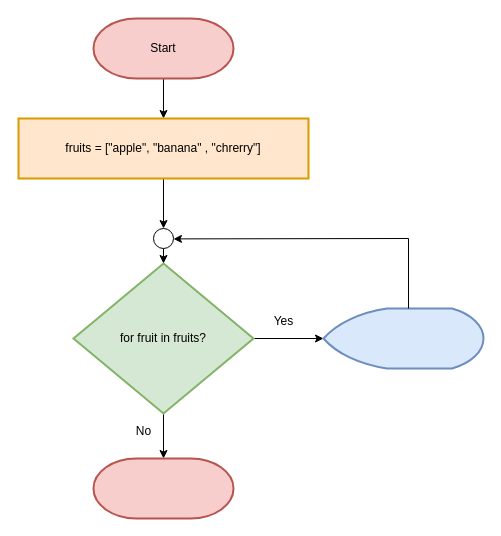
Image size: 501x536. Some labels were removed from this diagram. The centre of each missing label's shape, as x and y in pixels:
"Display:fruit" goes at (403,338).
"Stop" goes at (163,488).
